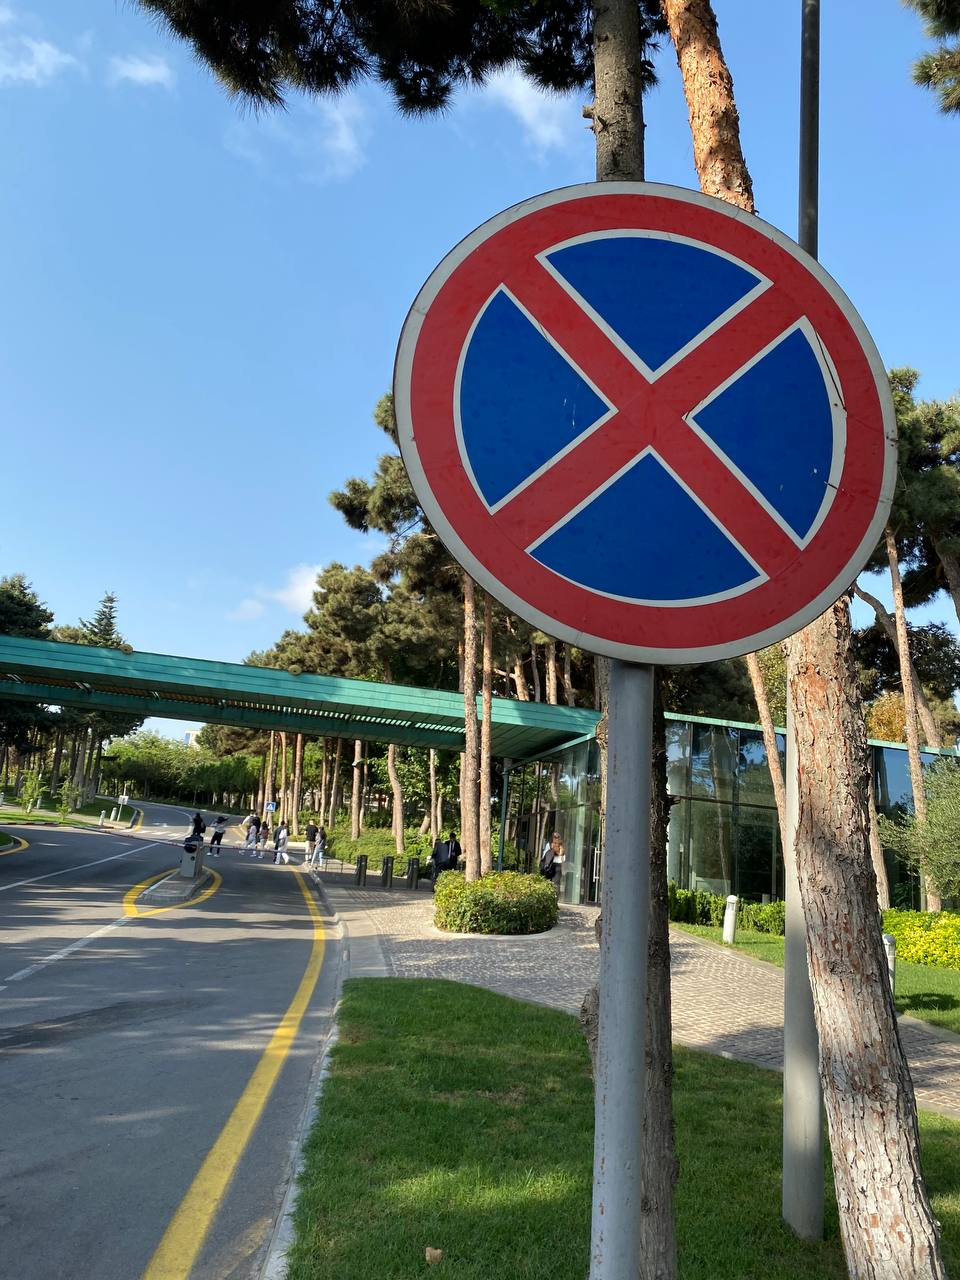No Parking: (392, 181, 899, 665)
